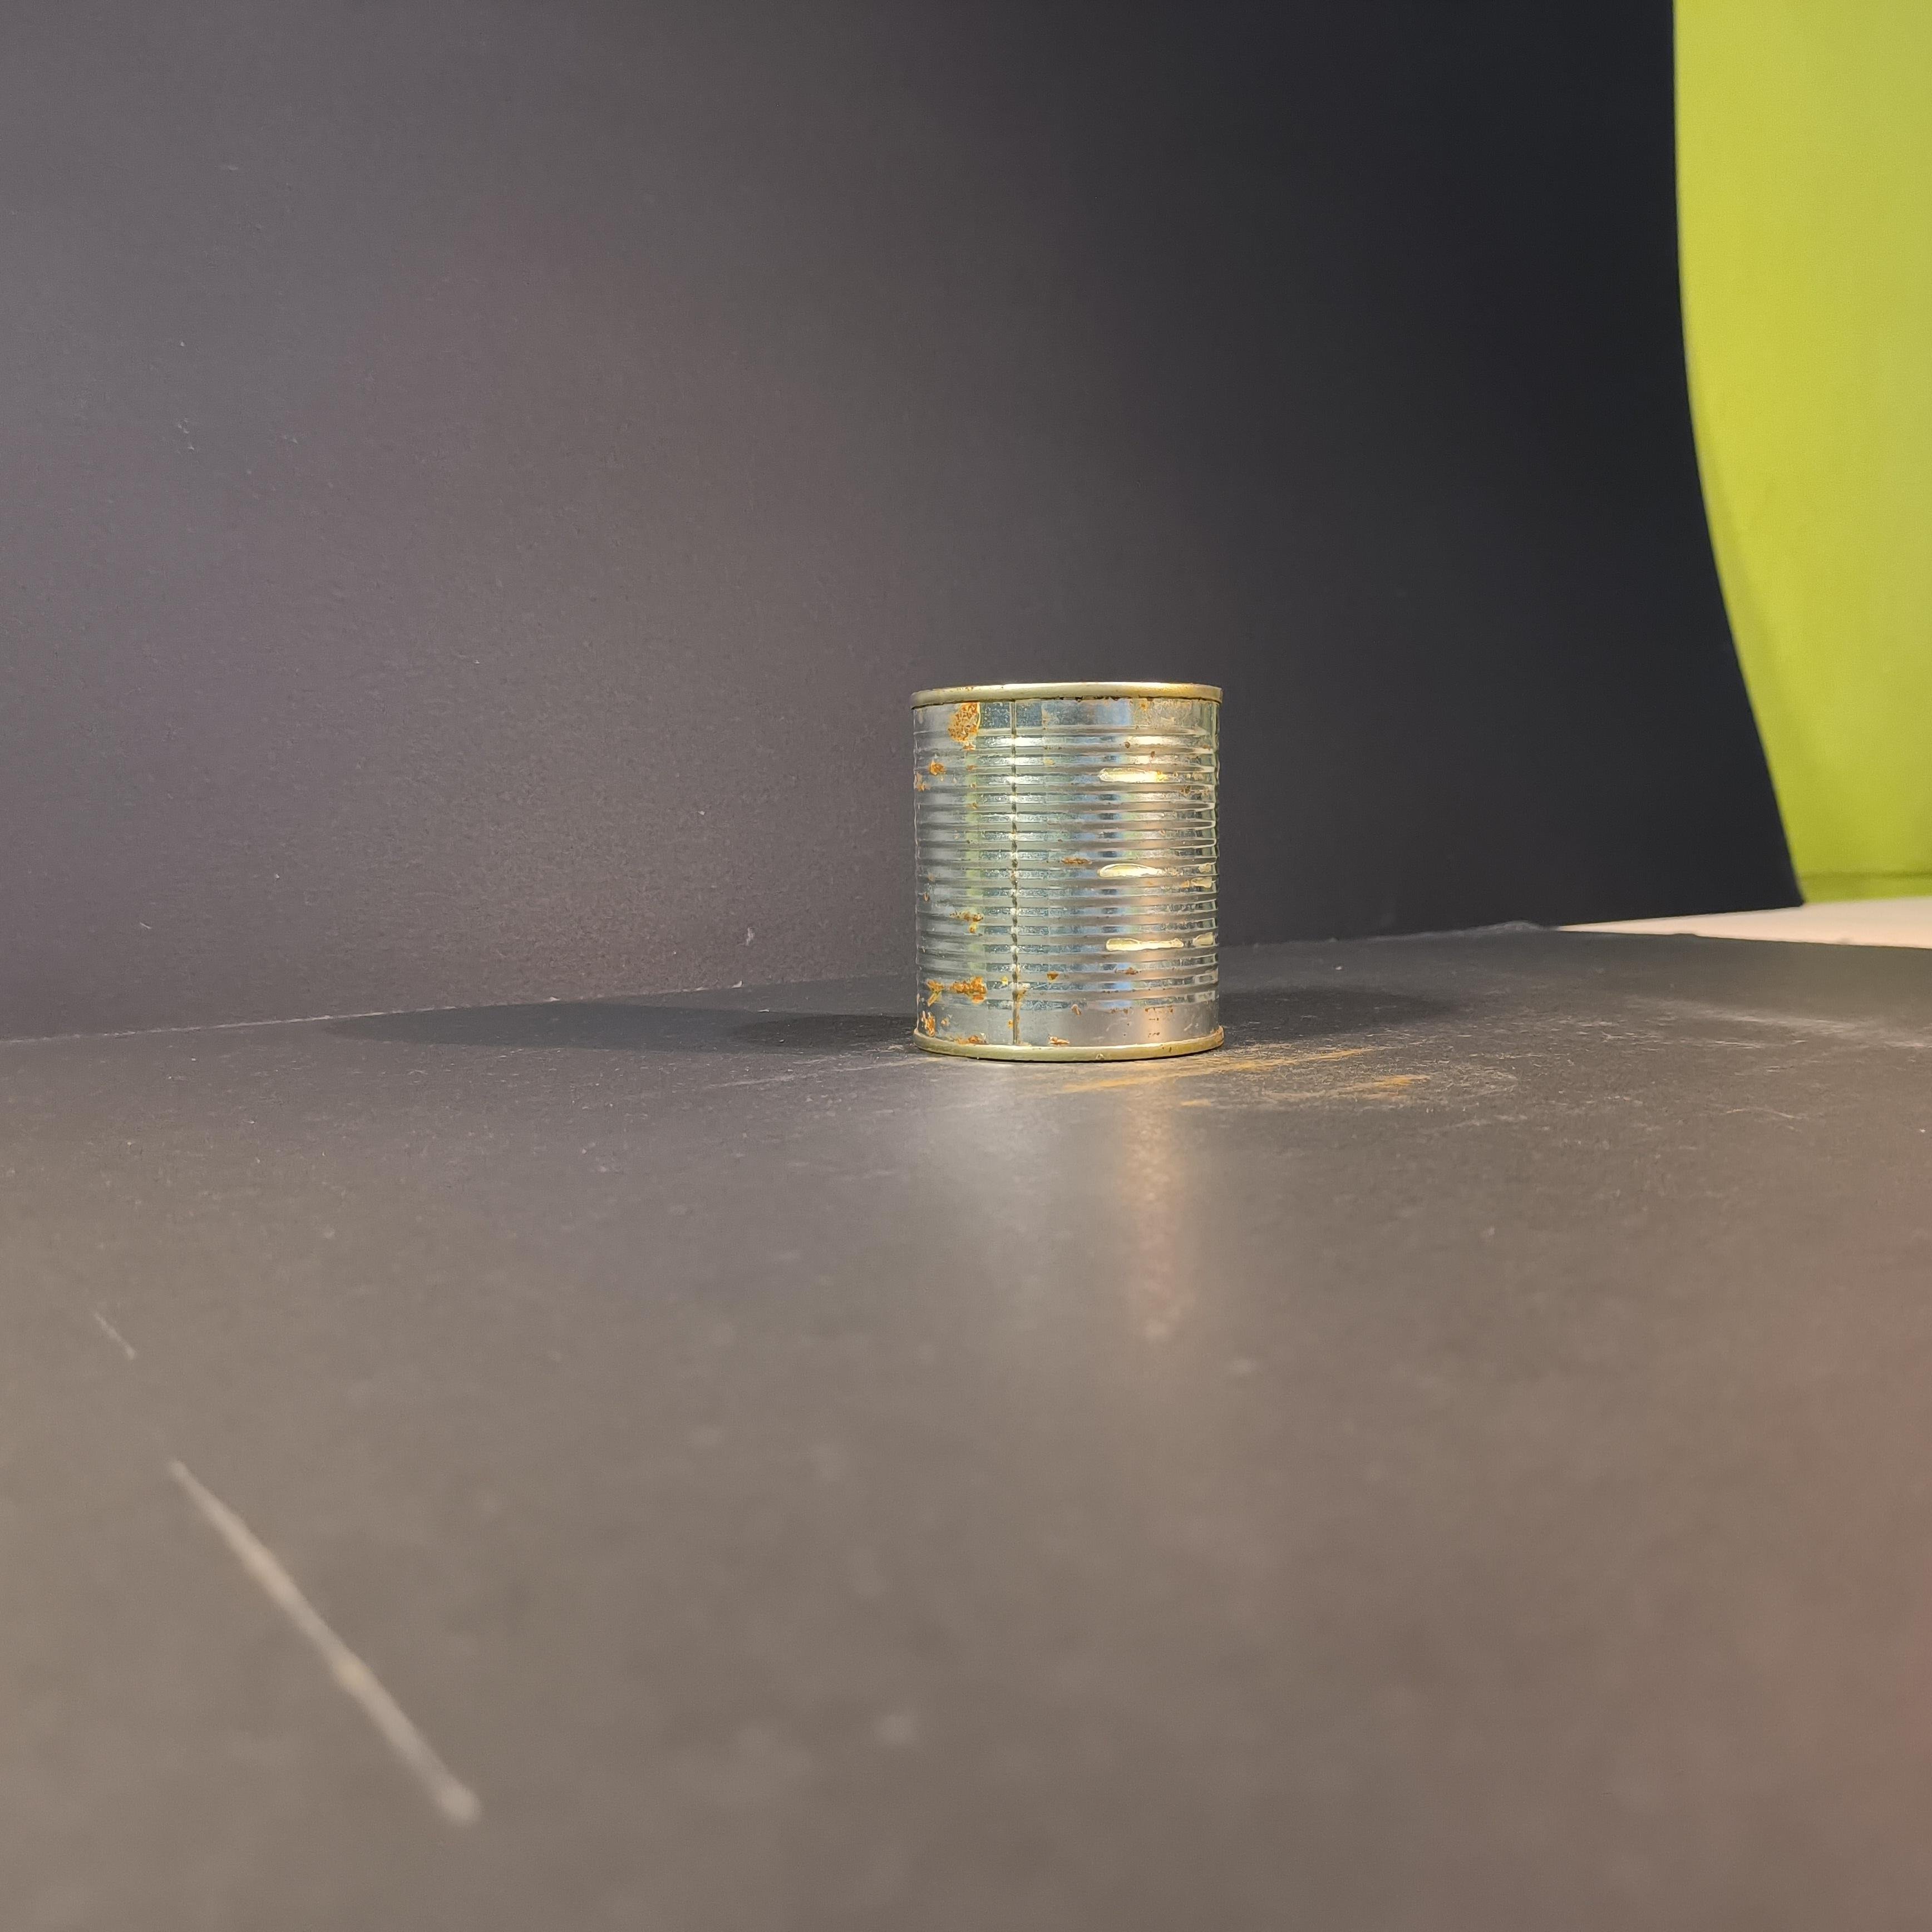Minor Defect: (909, 681, 1226, 1062)
